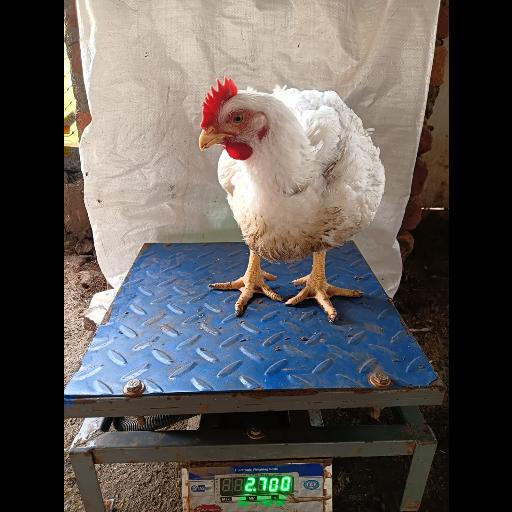chick: (199, 81, 386, 327)
